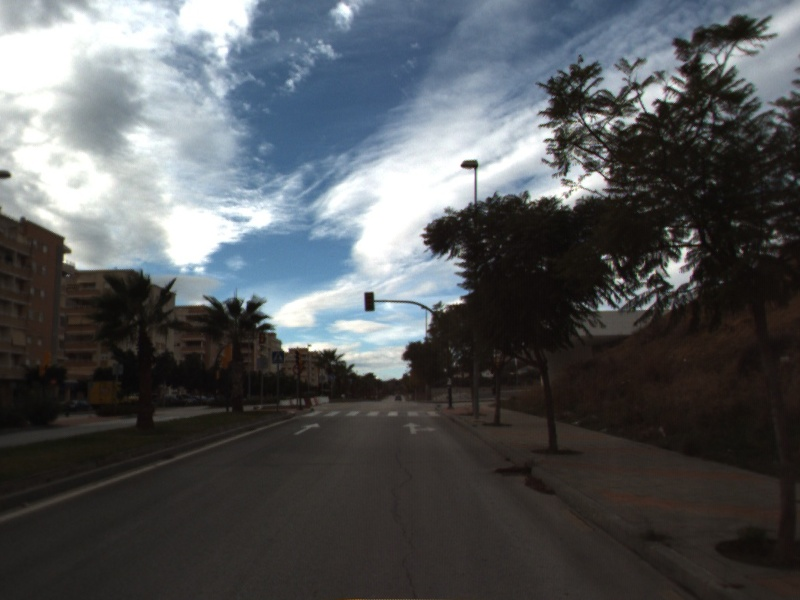STRAIGHT: (292, 421, 323, 437)
STRAIGHT_RIGHT: (401, 420, 439, 436)
